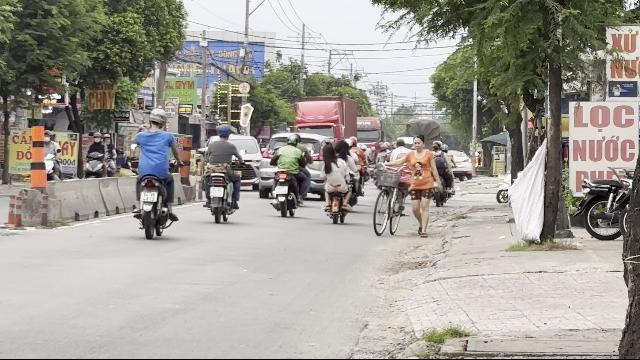helmet: (148, 108, 168, 128)
licenseplate: (140, 191, 156, 201)
motorcyclist: (127, 106, 179, 238)
